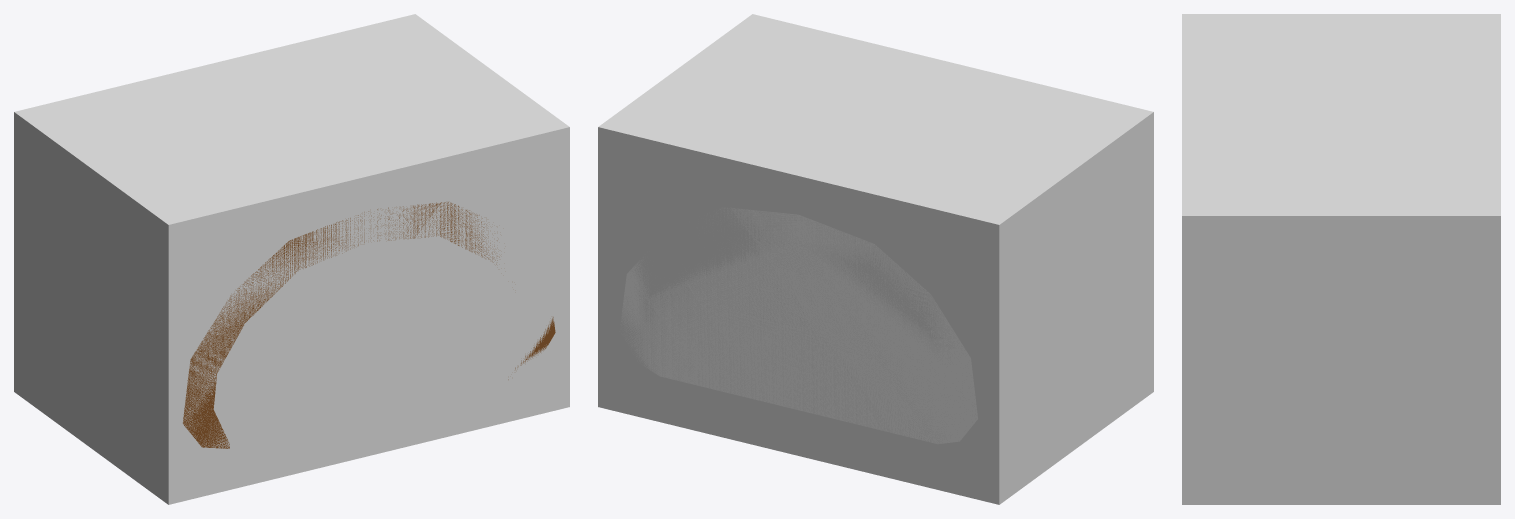
Rendered from binoculars.fbx.
The picture shows the model from 3 angles, left to right: view 1: azimuth 30°, elevation 25°; view 2: azimuth 150°, elevation 25°; view 3: azimuth 270°, elevation 25°; orthographic projection. The views are drawn at different scales.
Parts seen in each view (by area): view 1: Cube, Cylinder; view 2: Cube, Cylinder; view 3: Cube.
Part boxes in pixels (left/top/right/bottom): Cube: left=14, top=14, right=569, bottom=504; Cylinder: left=183, top=202, right=555, bottom=448; Cube: left=598, top=14, right=1153, bottom=504; Cylinder: left=619, top=207, right=977, bottom=444; Cube: left=1182, top=14, right=1500, bottom=504.
Bounding box in the file's own units: 150 × 100 × 100.
